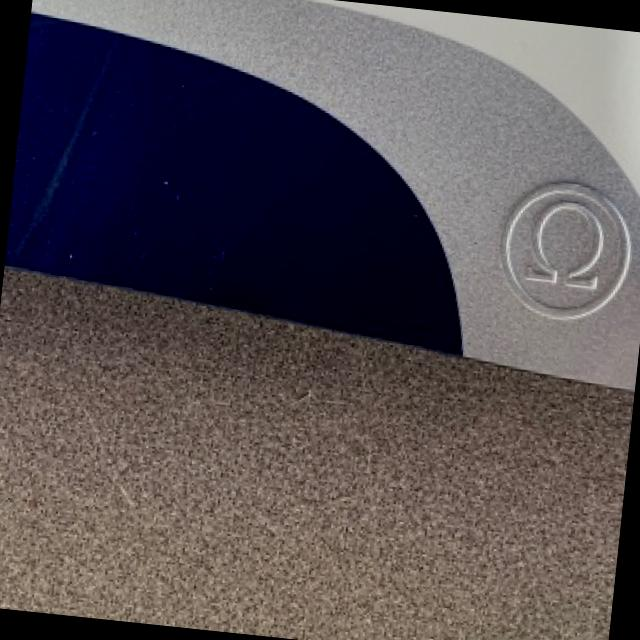healthy: (10, 0, 640, 385), (0, 265, 632, 640), (500, 183, 629, 316)
